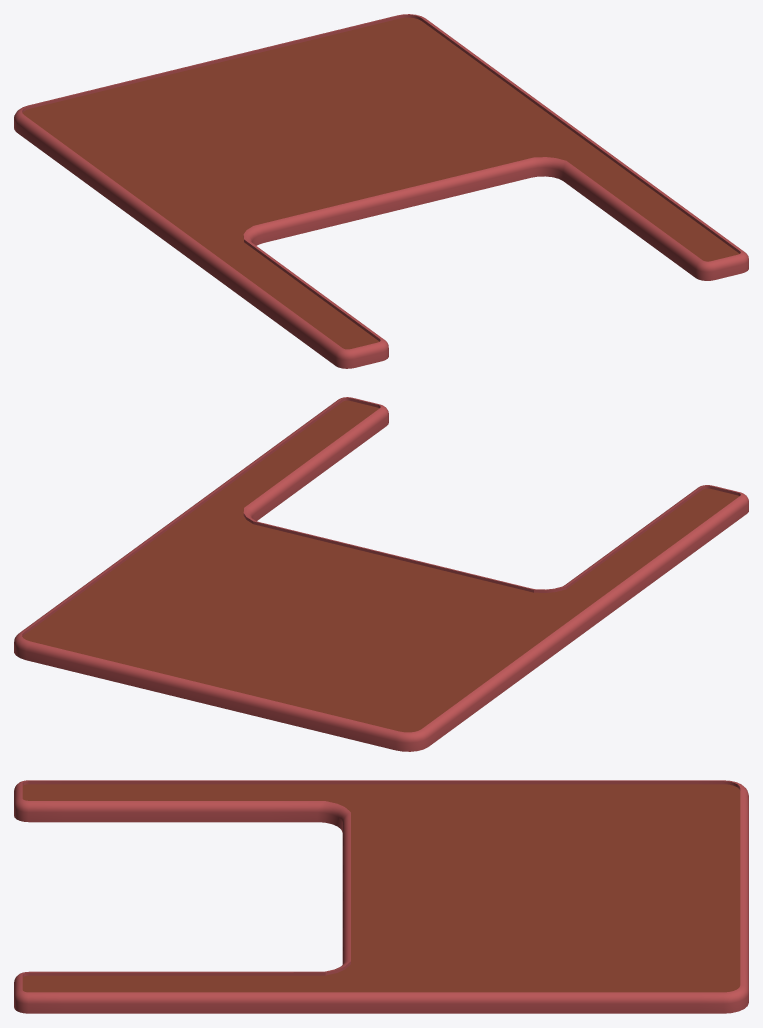
The model's file is wall_6.fbx.
3 views of the same model, one above another, from view 1: azimuth 30°, elevation 25°; view 2: azimuth 150°, elevation 25°; view 3: azimuth 270°, elevation 25° (orthographic). The views are drawn at different scales.
Visible parts, largest first — view 1: Plane.010; view 2: Plane.010; view 3: Plane.010.
Part boxes in pixels (x1,y1,x2,y2): Plane.010: (14, 14, 748, 368); Plane.010: (14, 397, 748, 751); Plane.010: (14, 780, 748, 1013).
Bounding box in the file's own units: 4659 × 174 × 6612.
